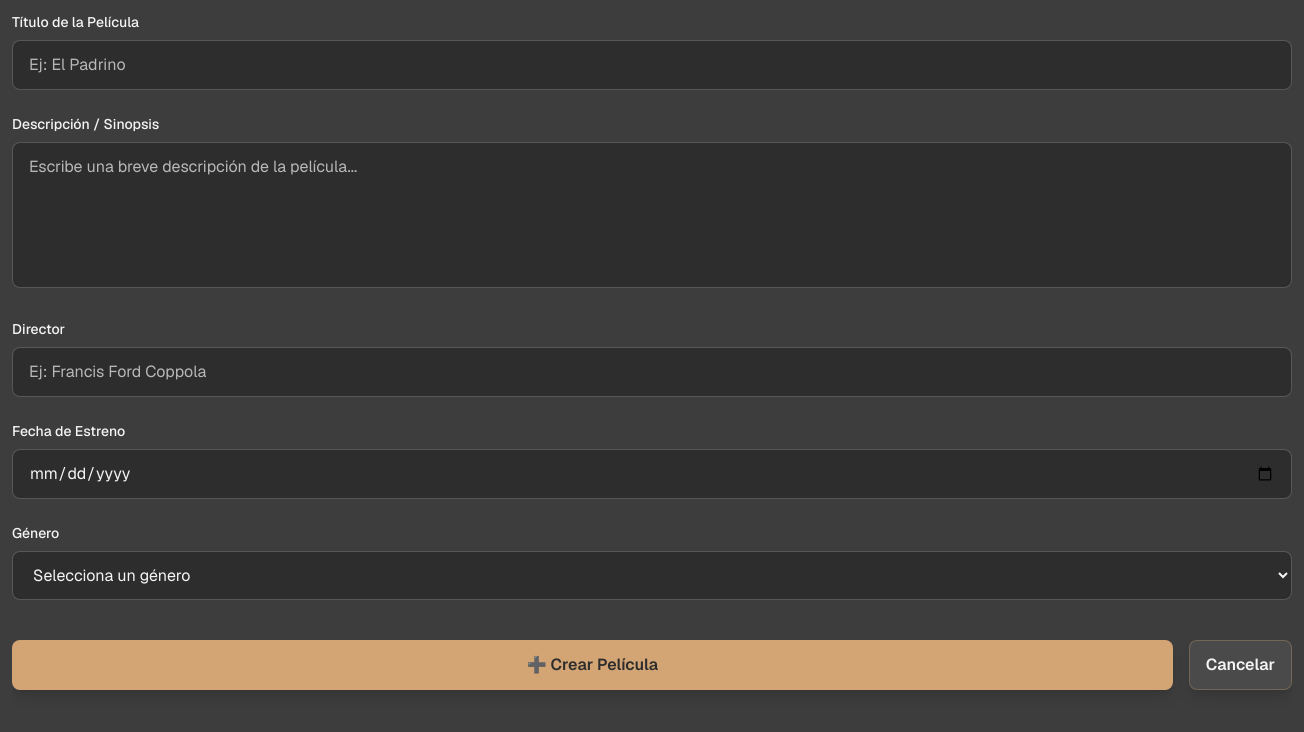
Test: MovieForm › shows validation errors when fields are empty
Type "A" into the field labelled "Título de la Película" at (652, 65), box [12,40,1292,90]
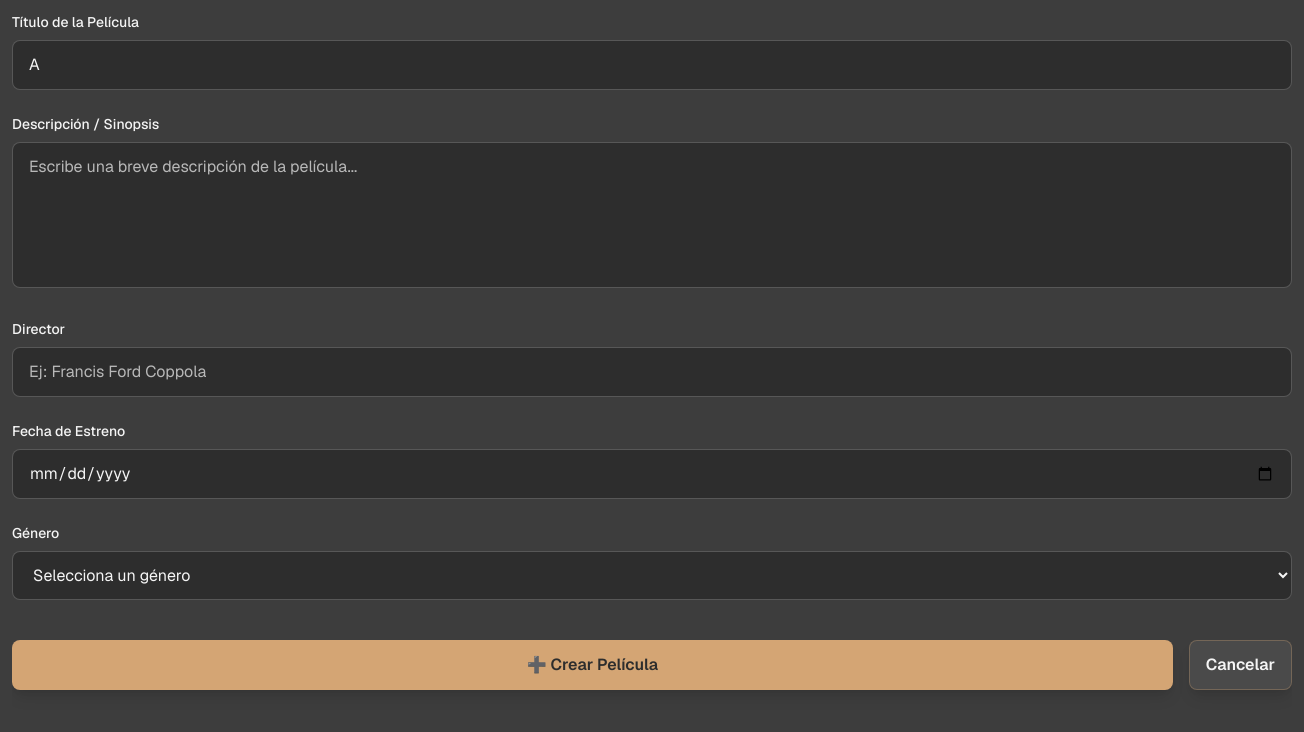
Type "Muy corta" into the text box with placeholder "Escribe una breve descripción de la película..." at (652, 215), box [12,142,1292,288]
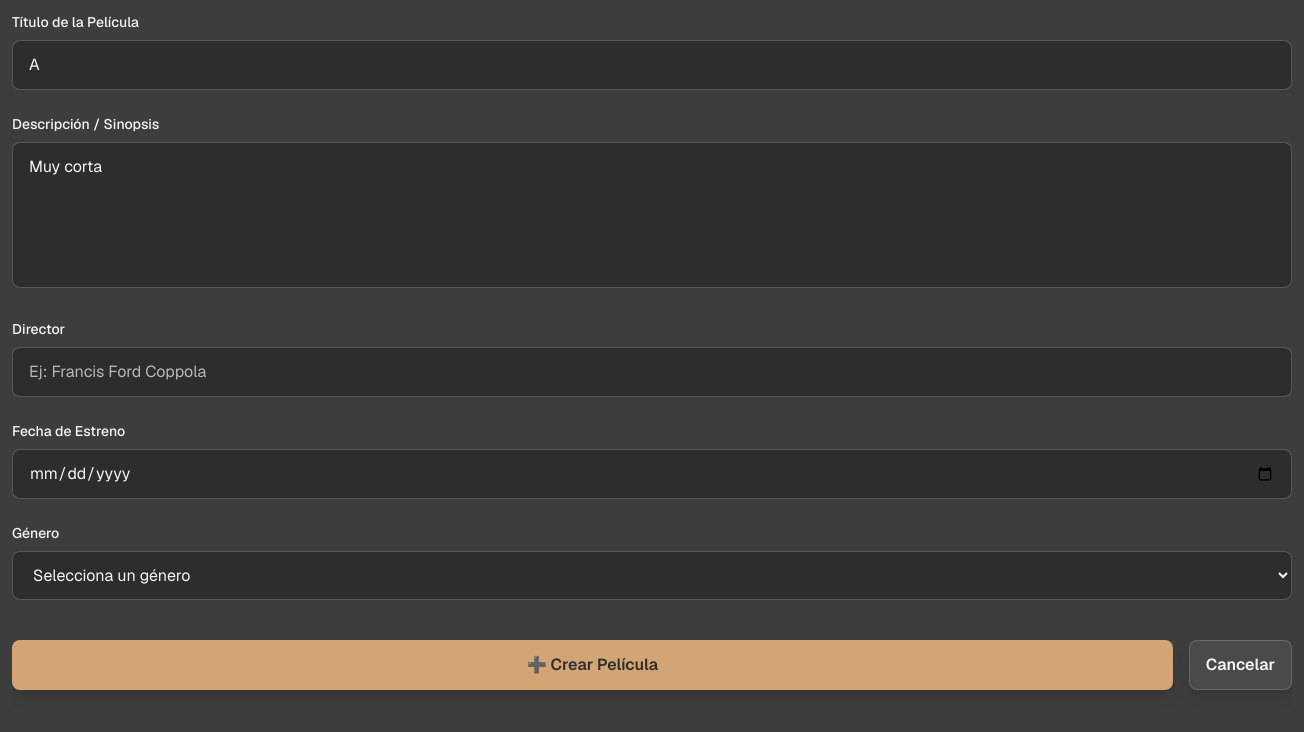
Type "B" into the field labelled "Director" at (652, 372), box [12,347,1292,397]
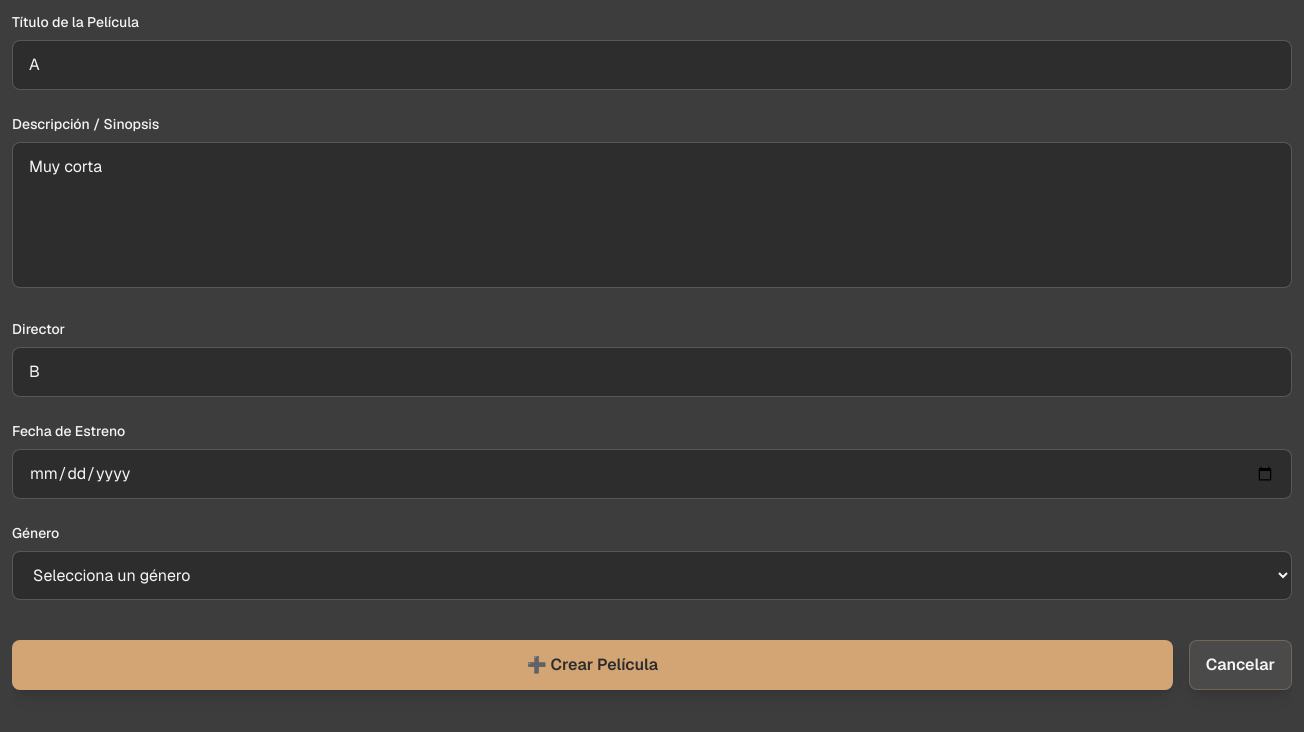
Type "2999-01-01" into the date field labelled "Fecha de Estreno" at (652, 474), box [12,449,1292,499]
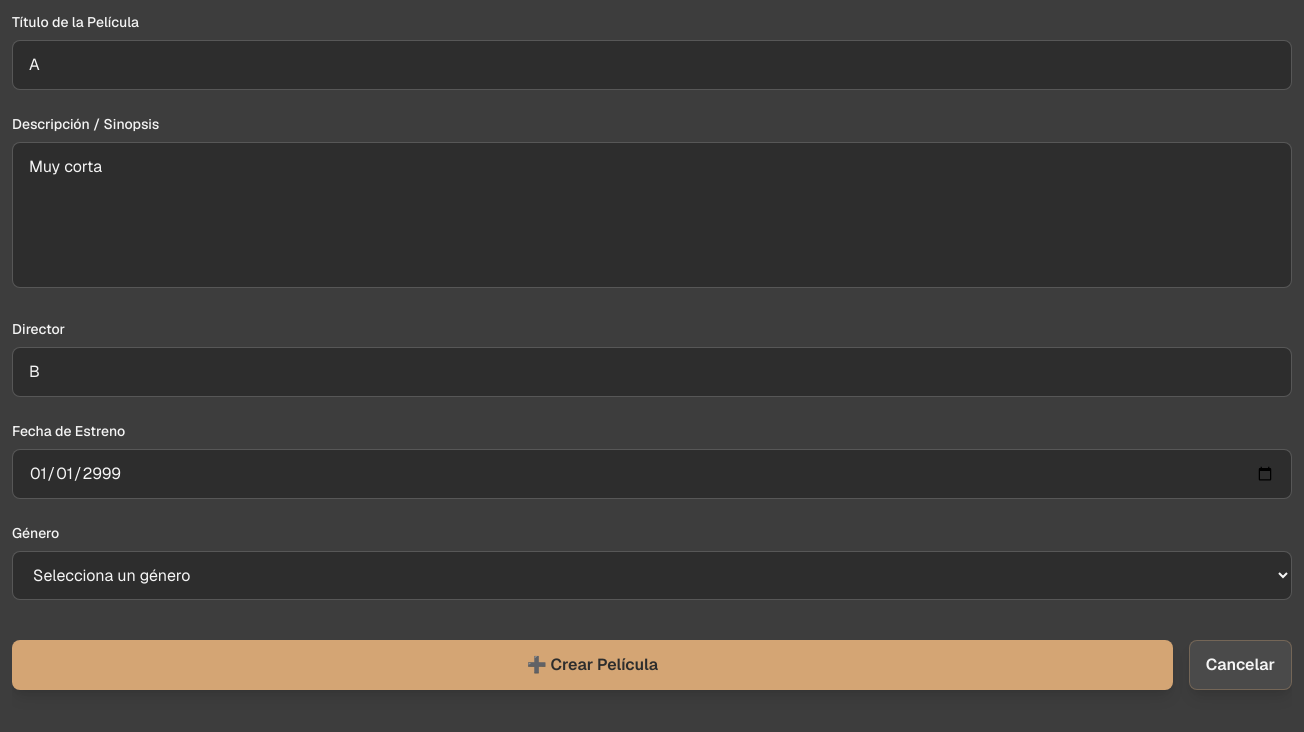
Select "Acción" in the dropdown at (652, 576), box [12,551,1292,600]
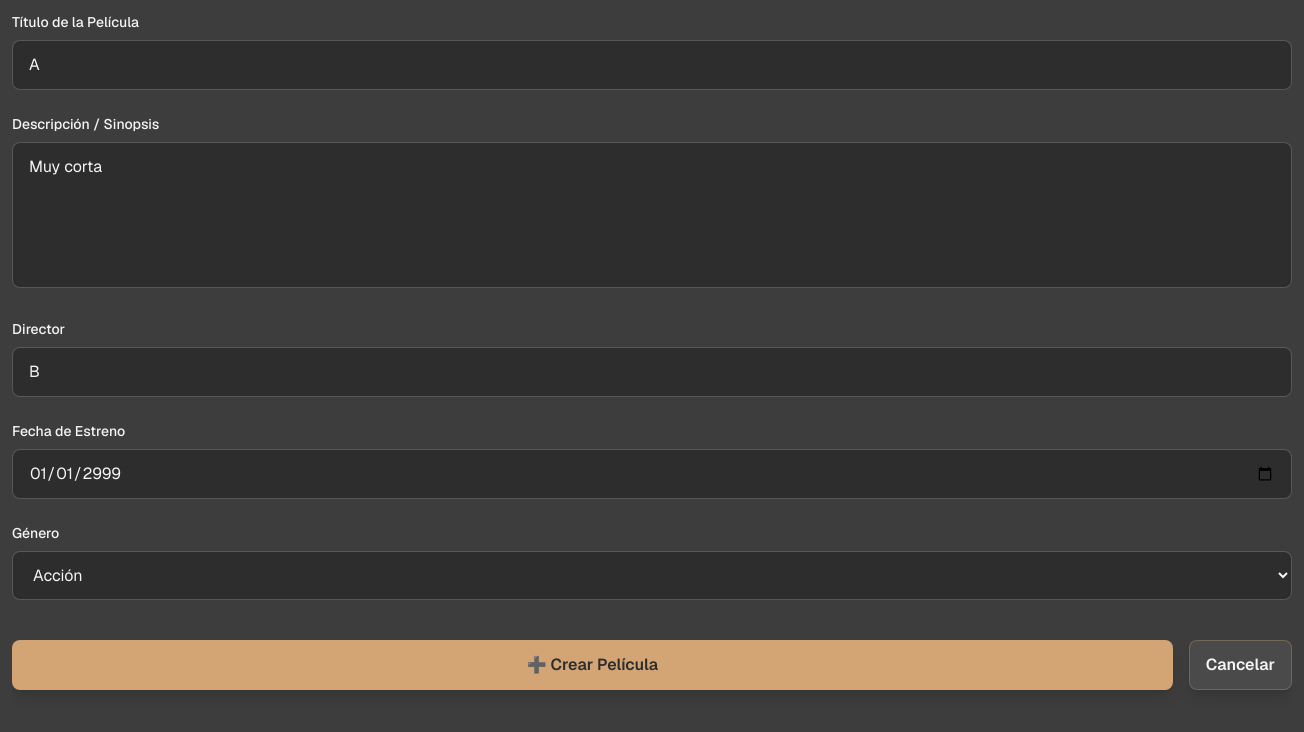
Click the button "➕ Crear Película" at (592, 665), box [12,640,1173,690]
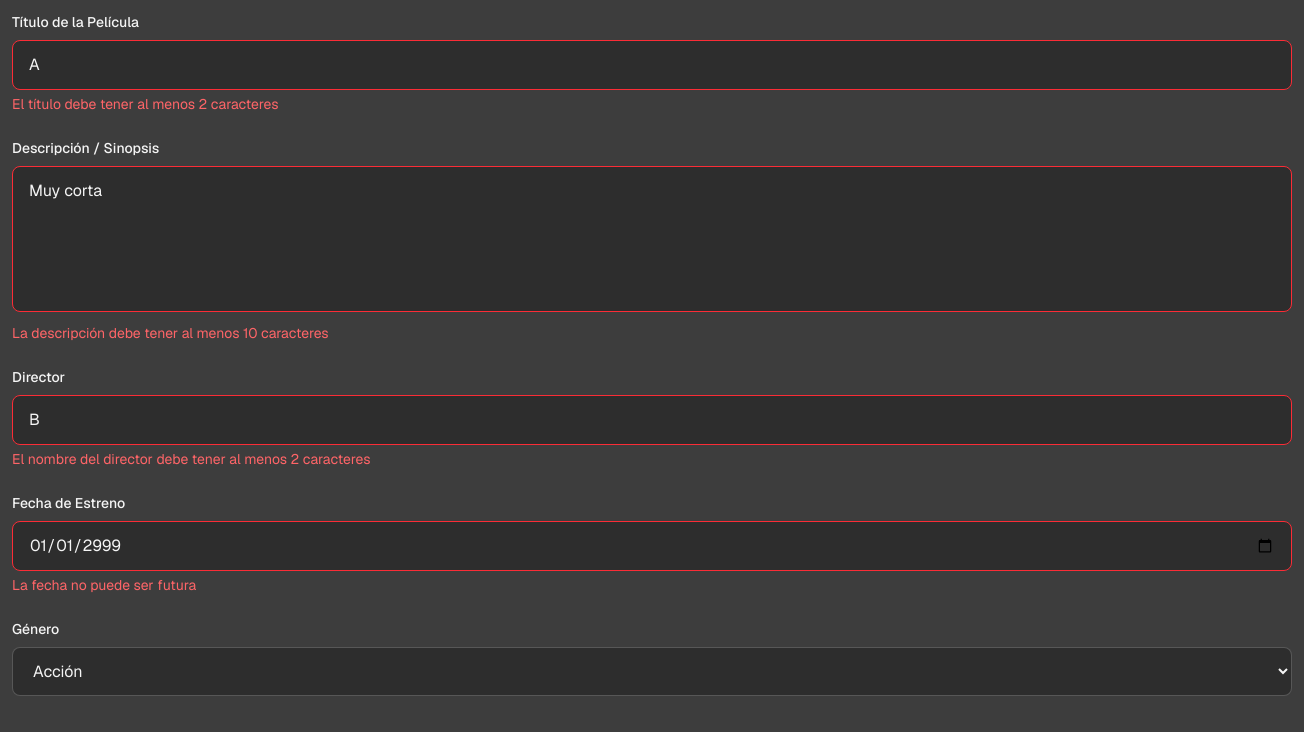
Check: the text "El título debe tener al menos 2 caracteres" is shown, box [12,95,278,113]
